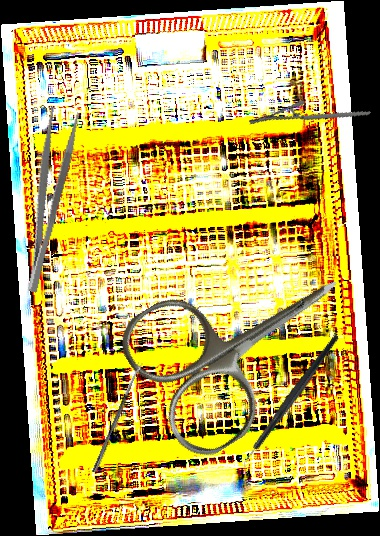Chopper: (207, 332, 375, 478)
Dressing Forceps: (8, 106, 83, 294)
Iris Scissors: (109, 216, 380, 468)
Needle Holder: (248, 81, 371, 155)
Surgical Spoon: (91, 361, 144, 474)
